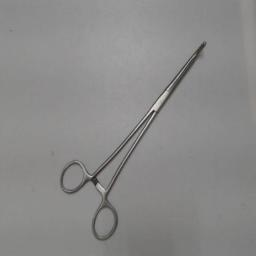Lahey Forceps: (58, 34, 210, 246)
